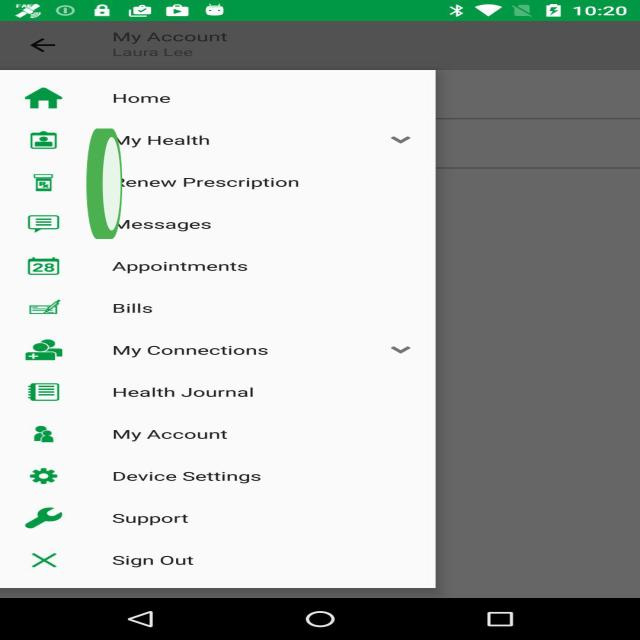social proof: (85, 86, 124, 290)
